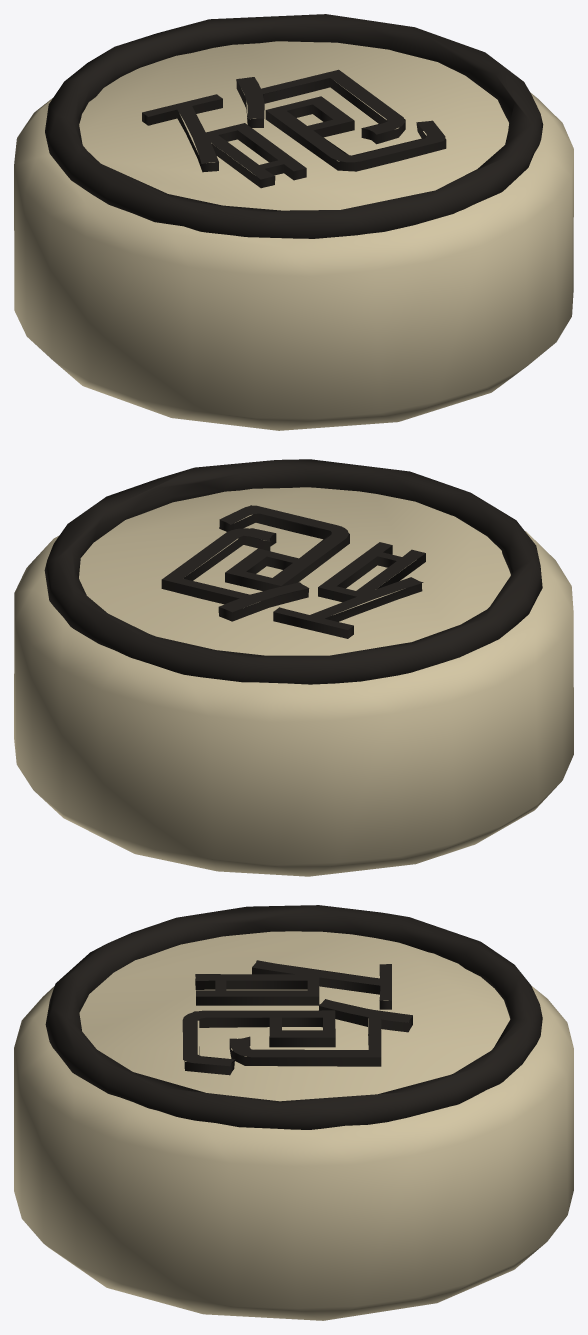
The model's file is quan_den_phao.glb.
3 renders of one model, top to bottom at view 1: azimuth 30°, elevation 25°; view 2: azimuth 150°, elevation 25°; view 3: azimuth 270°, elevation 25°, orthographic.
Parts seen in each view (by area): view 1: quan_den_phao; view 2: quan_den_phao; view 3: quan_den_phao.
Part boxes in pixels (x1,y1,x2,y2): quan_den_phao: [14, 14, 573, 430]; quan_den_phao: [14, 459, 573, 876]; quan_den_phao: [14, 905, 573, 1320].
Bounding box in the file's own units: 0.0367 × 0.0153 × 0.0366.
